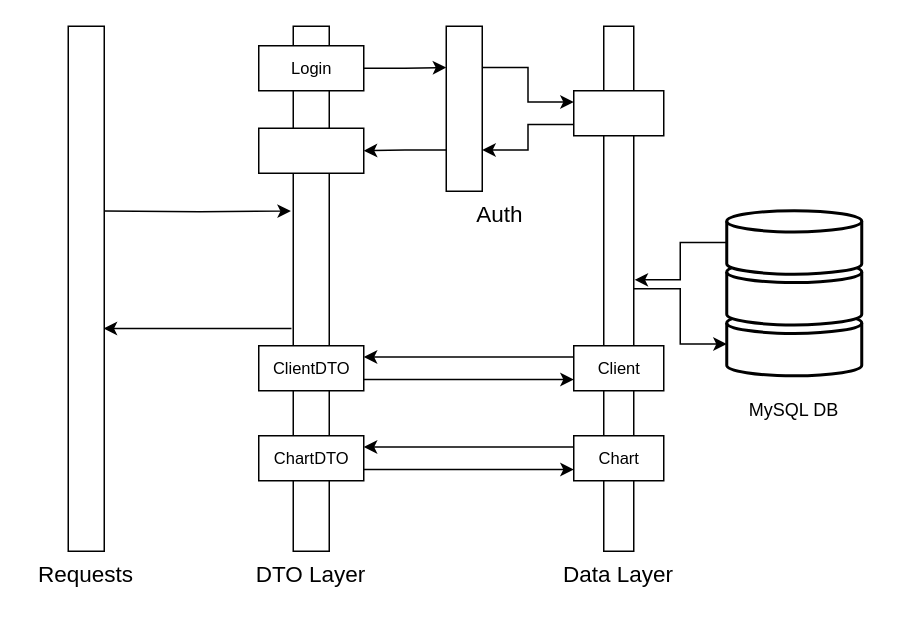
Image size: 909x623. Some labels were removed from this diagram. The shapes that lost their labels are listed below. From the top down, each one's centre as x and y in pixels, then its label:
At [618,112]: "User".
At [310,150]: "Token".
